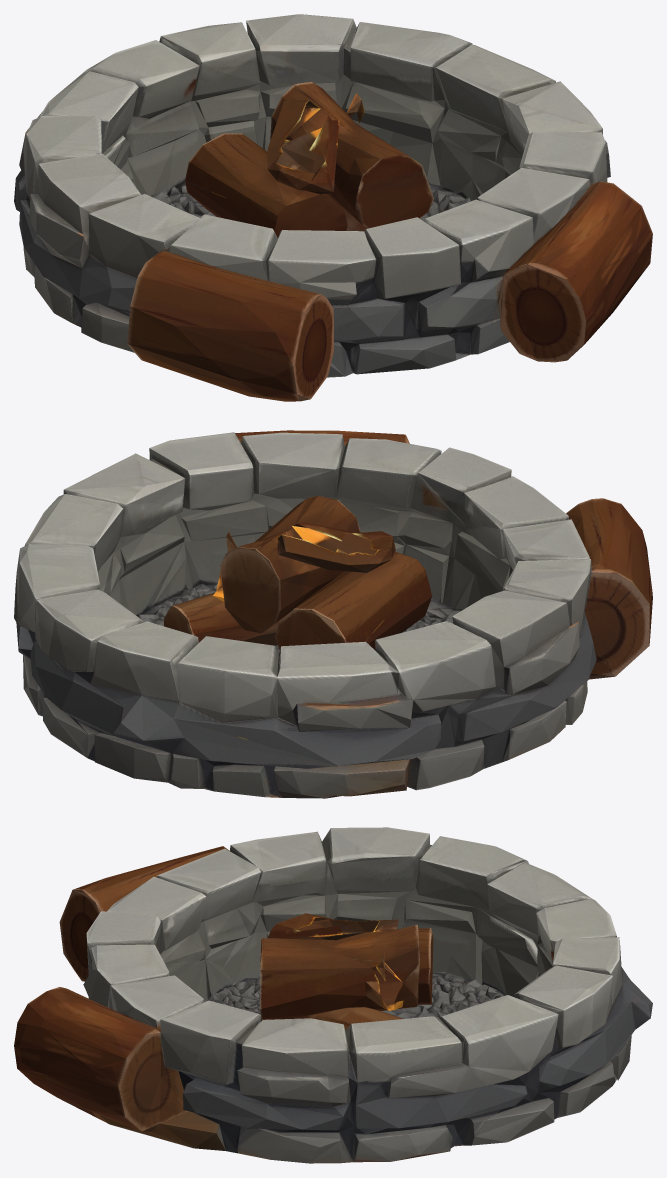
Rendered from firepit_circle.glb.
3 views of the same model, one above another, from view 1: azimuth 30°, elevation 25°; view 2: azimuth 150°, elevation 25°; view 3: azimuth 270°, elevation 25° (orthographic). The views are drawn at different scales.
Visible parts, largest first — view 1: GLTF; view 2: GLTF; view 3: GLTF.
Part boxes in pixels (<box>): GLTF: <box>14,14,652,401</box>; GLTF: <box>14,430,652,798</box>; GLTF: <box>14,827,652,1163</box>.
Bounding box in the file's own units: 1.65 × 0.4515 × 1.9.
1 material, 1 textured.
